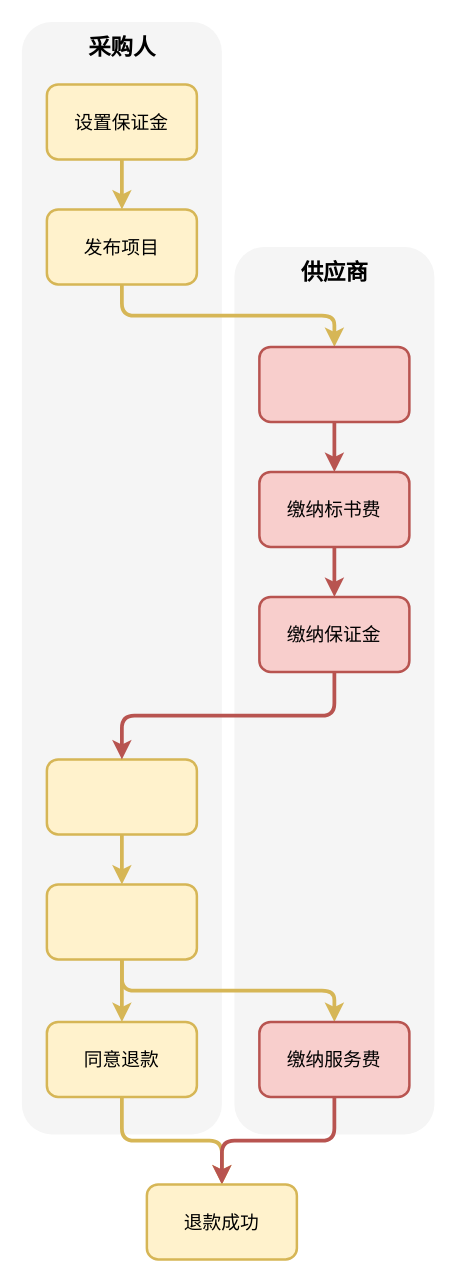
This 455x1281 diagram has some shape labels left out. The shapes that lost their labels are listed below. From the top down, each one's box as (x1, y1, x2, y2) in pixels, then its label:
(258, 345, 410, 422): 供应商报名
(45, 758, 198, 835): 选择保证金退款方式
(45, 882, 198, 960): 发布中标结果
